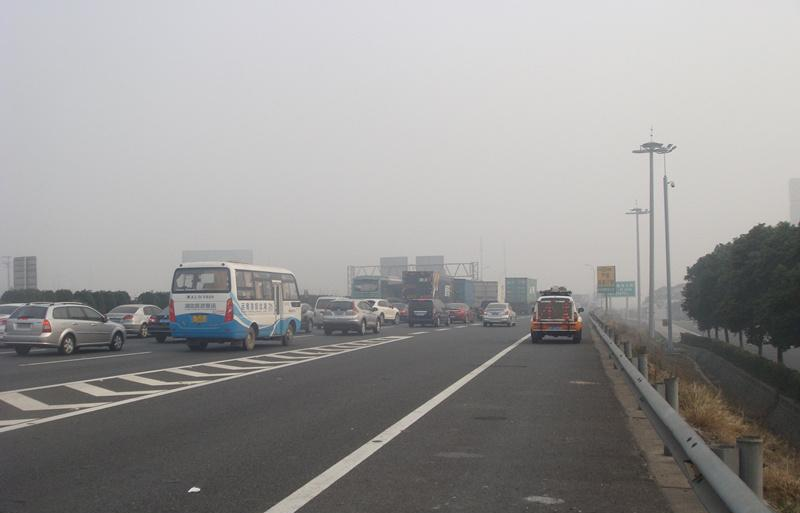bus: (170, 261, 303, 350), (529, 294, 585, 344), (349, 276, 404, 312), (400, 268, 443, 312), (504, 275, 544, 314), (474, 279, 509, 317)
car: (3, 300, 126, 355), (148, 300, 206, 344), (102, 303, 168, 339), (323, 299, 382, 336), (1, 303, 42, 344), (314, 296, 357, 330), (406, 298, 450, 327), (280, 301, 318, 333), (363, 299, 401, 326), (482, 302, 516, 327), (443, 301, 475, 325), (391, 302, 409, 322)
